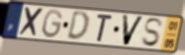D: (65, 10, 90, 43)
G: (41, 8, 64, 40)
S: (141, 17, 165, 48)
T: (95, 13, 114, 44)
V: (121, 14, 146, 47)
X: (18, 6, 46, 39)
